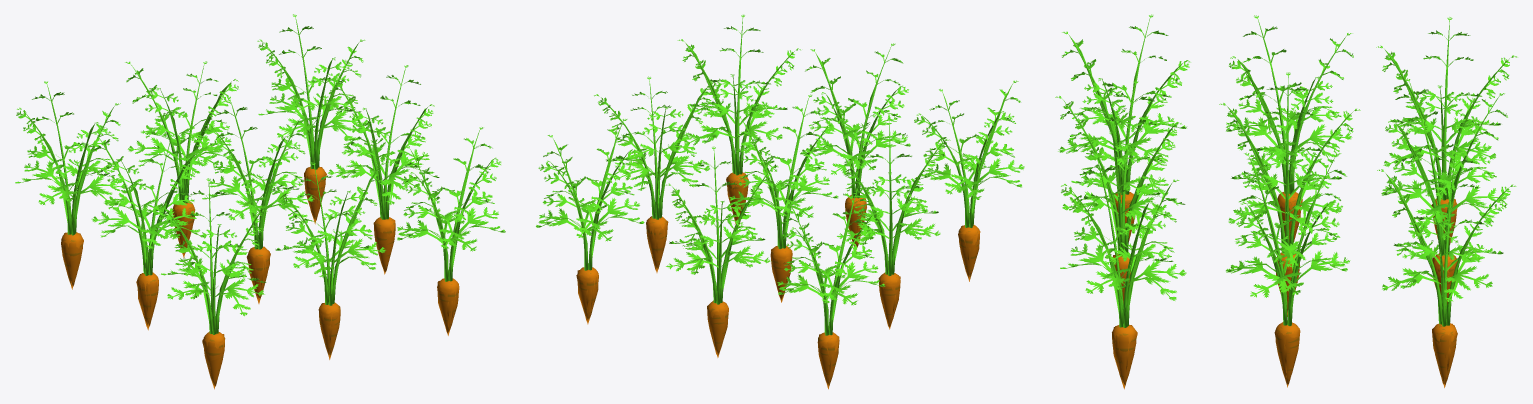
The model's file is Carrot_lvl5.fbx.
3 renders of one model, left to right at view 1: azimuth 30°, elevation 25°; view 2: azimuth 150°, elevation 25°; view 3: azimuth 270°, elevation 25°, orthographic. The views are drawn at different scales.
Visible parts, largest first — view 1: Carrot_lvl5_LOD0, Carrot_lvl5_LOD0.001, Carrot_lvl5_LOD0.002, Carrot_lvl5_LOD0.003; view 2: Carrot_lvl5_LOD0, Carrot_lvl5_LOD0.001, Carrot_lvl5_LOD0.002, Carrot_lvl5_LOD0.003; view 3: Carrot_lvl5_LOD0, Carrot_lvl5_LOD0.001, Carrot_lvl5_LOD0.002, Carrot_lvl5_LOD0.003.
Part boxes in pixels (bbox=[...]): Carrot_lvl5_LOD0: bbox=[16, 14, 501, 384]; Carrot_lvl5_LOD0.001: bbox=[16, 14, 505, 386]; Carrot_lvl5_LOD0.002: bbox=[15, 15, 505, 367]; Carrot_lvl5_LOD0.003: bbox=[19, 26, 499, 389]; Carrot_lvl5_LOD0: bbox=[537, 15, 1024, 385]; Carrot_lvl5_LOD0.001: bbox=[536, 15, 1023, 386]; Carrot_lvl5_LOD0.002: bbox=[536, 15, 1024, 389]; Carrot_lvl5_LOD0.003: bbox=[539, 26, 1021, 387]; Carrot_lvl5_LOD0: bbox=[1055, 15, 1516, 383]; Carrot_lvl5_LOD0.001: bbox=[1057, 15, 1516, 385]; Carrot_lvl5_LOD0.002: bbox=[1058, 14, 1513, 388]; Carrot_lvl5_LOD0.003: bbox=[1061, 26, 1511, 388].
Size of the model in its own units: 117 by 113 by 63.12.
